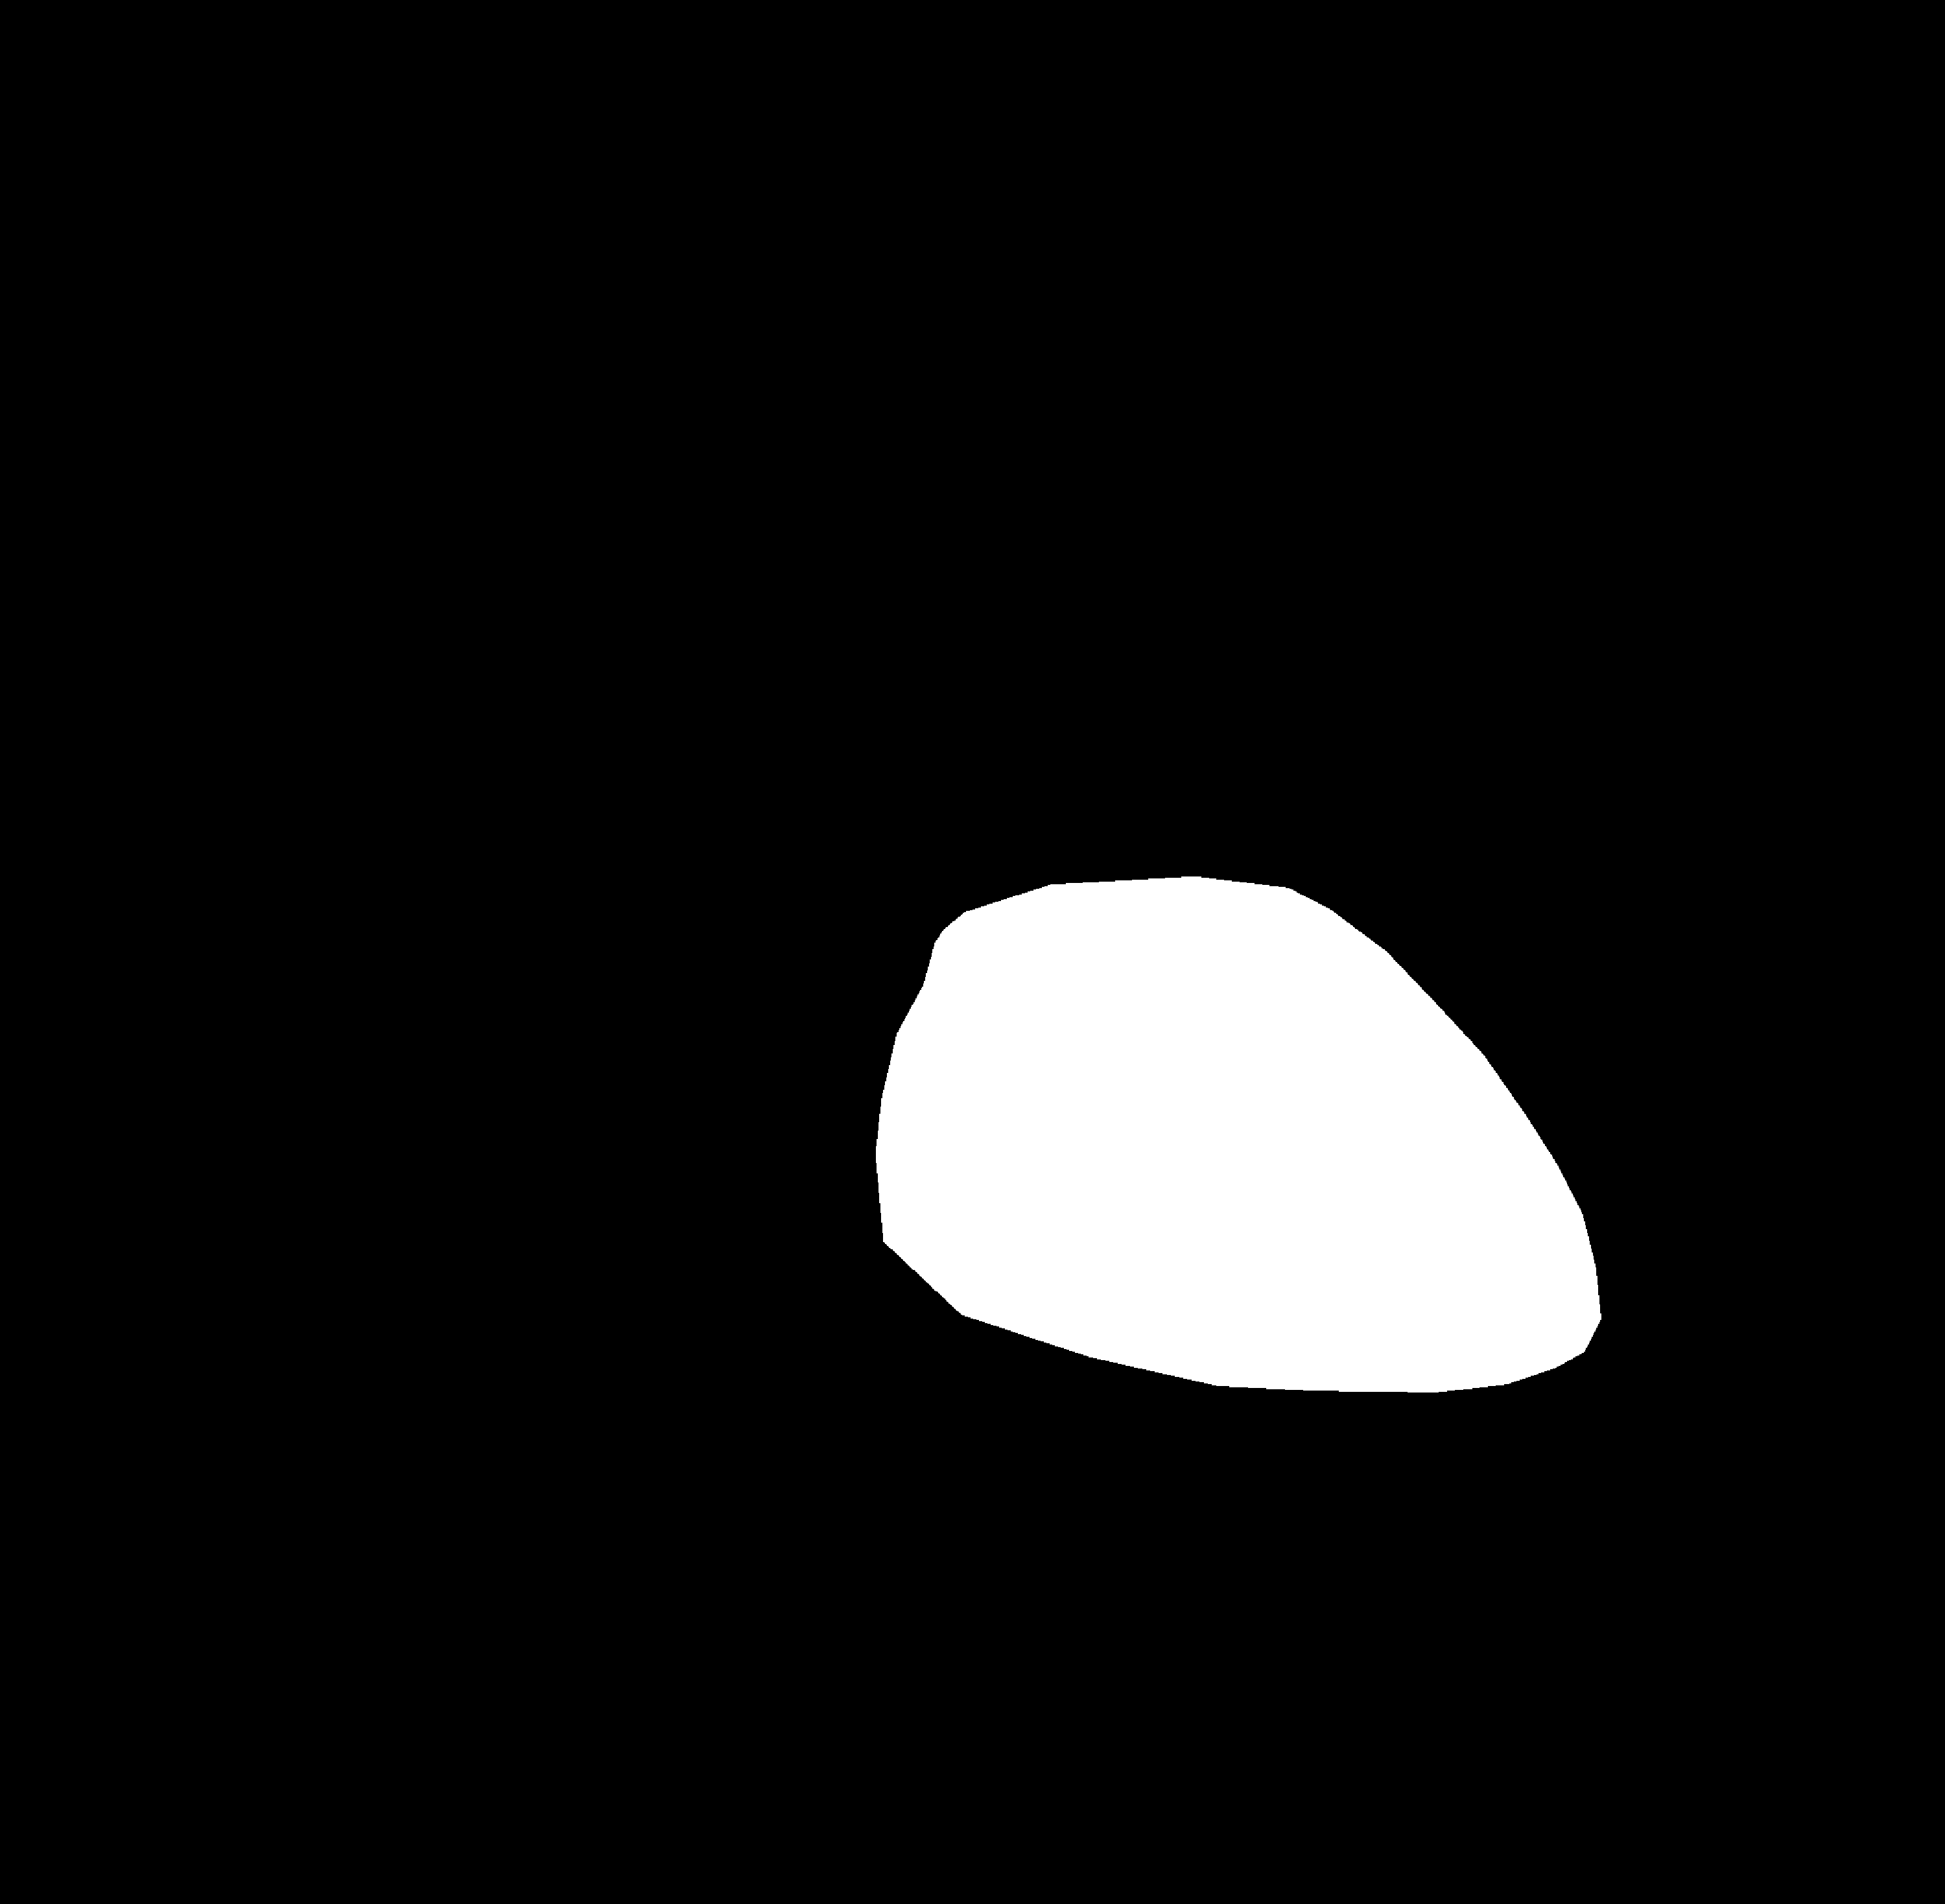heart: (879, 957, 1607, 1447)
left_lung: (256, 337, 991, 1615)
right_lung: (1129, 333, 1898, 1604)
